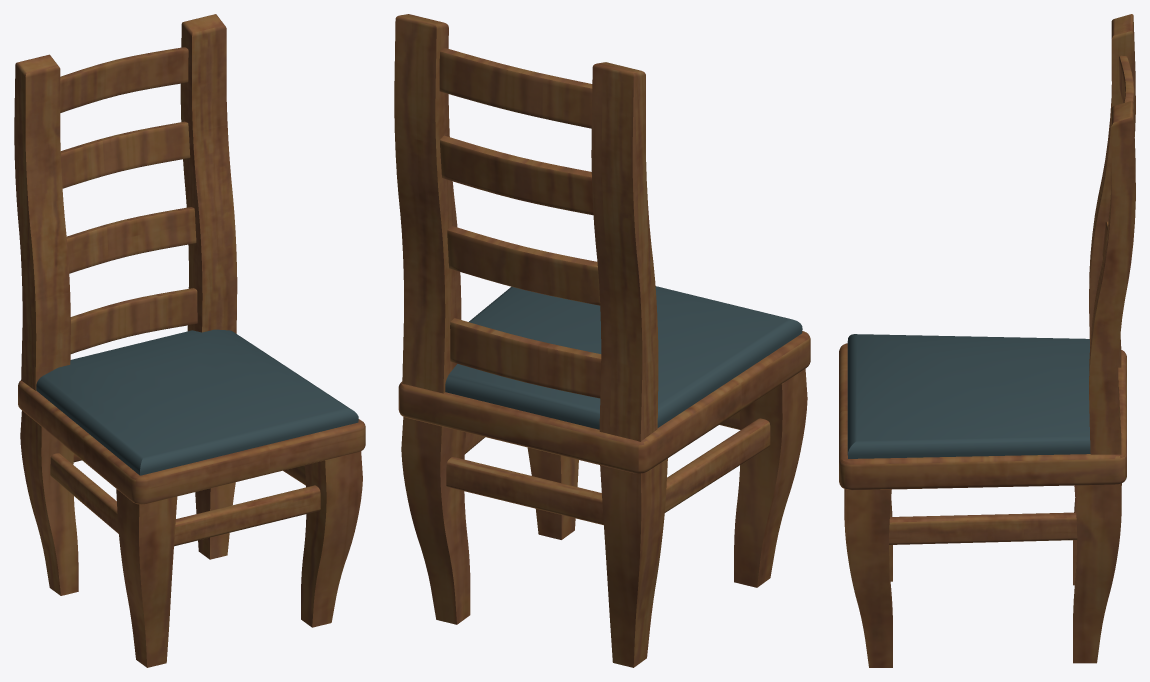
File: CI_047_048_chair.glb
3 views of the same model, side by side, from view 1: azimuth 30°, elevation 25°; view 2: azimuth 150°, elevation 25°; view 3: azimuth 270°, elevation 25° (orthographic). The views are drawn at different scales.
Parts seen in each view (by area): view 1: back_vertical, seat_cushion, legs_vertical, back_horizontal, seat_wood, legs_horizontal; view 2: back_vertical, legs_vertical, back_horizontal, seat_cushion, seat_wood, legs_horizontal; view 3: seat_cushion, legs_vertical, back_vertical, seat_wood, legs_horizontal, back_horizontal.
Boxes of the visible parts, left/top/right/bottom form: back_vertical: left=14, top=14, right=237, bottom=390; seat_cushion: left=36, top=329, right=358, bottom=475; legs_vertical: left=20, top=411, right=362, bottom=667; back_horizontal: left=60, top=47, right=197, bottom=353; seat_wood: left=18, top=380, right=365, bottom=504; legs_horizontal: left=50, top=453, right=320, bottom=546; back_vertical: left=394, top=14, right=658, bottom=441; legs_vertical: left=401, top=369, right=807, bottom=667; back_horizontal: left=439, top=48, right=601, bottom=398; seat_cushion: left=445, top=286, right=802, bottom=429; seat_wood: left=398, top=331, right=810, bottom=473; legs_horizontal: left=446, top=412, right=770, bottom=525; seat_cushion: left=847, top=334, right=1090, bottom=458; legs_vertical: left=844, top=483, right=1121, bottom=667; back_vertical: left=1089, top=14, right=1135, bottom=454; seat_wood: left=839, top=343, right=1126, bottom=490; legs_horizontal: left=889, top=512, right=1077, bottom=544; back_horizontal: left=1102, top=55, right=1135, bottom=258.
Size of the model in its own units: 0.7058 by 1.5 by 0.7277.
Materials: 2 (1 with a texture image).
